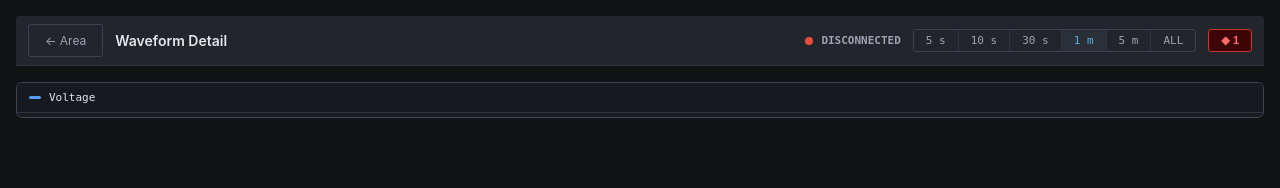
Test: Level3Detail — alarm panel › alarm panel becomes visible after clicking the badge toggle
Click the button with class "hmi-alarm-badge": point(1230, 40) [1208, 29, 1252, 52]
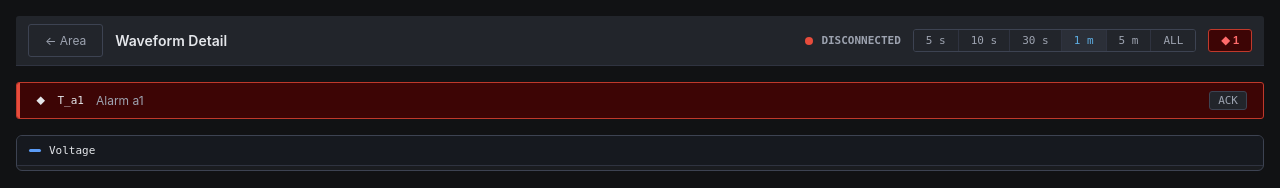
Check: the element with class "hmi-alarm-panel" is shown, box [16, 82, 1264, 119]
